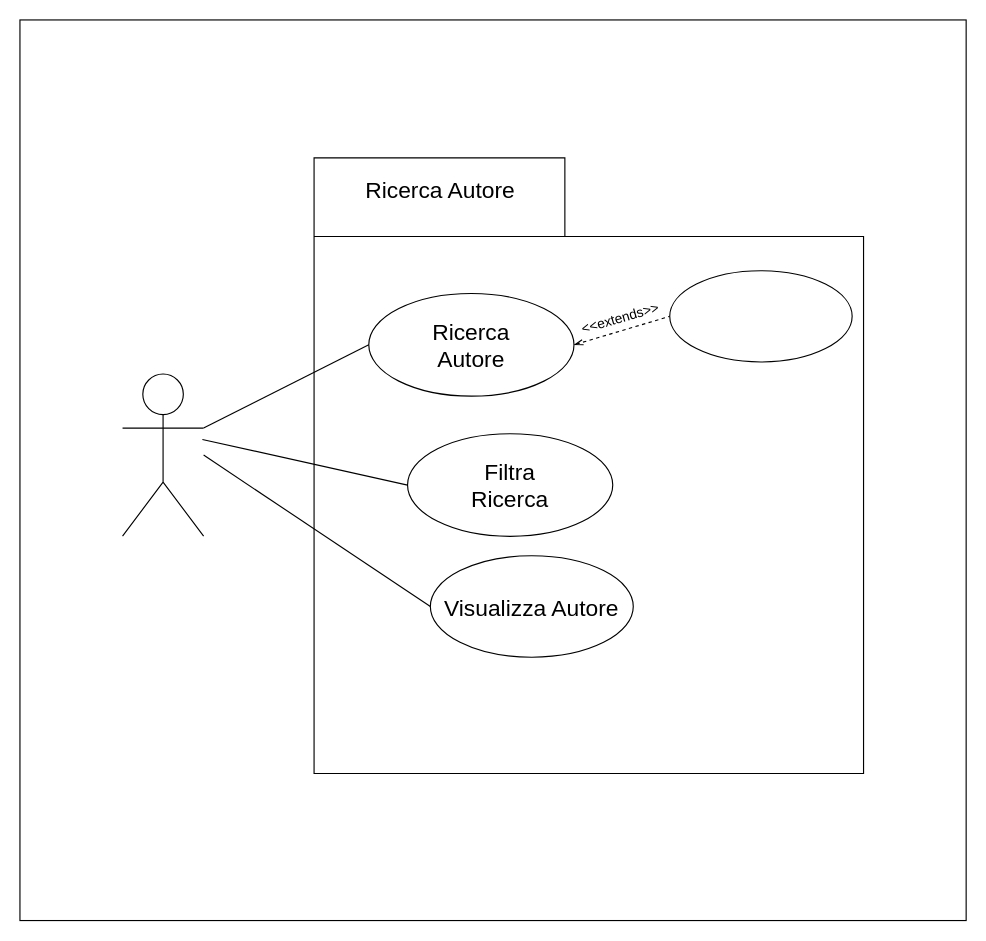
This 986x941 diagram has some shape labels left out. Each missing label, with the box of its shape:
Autore non presente: (669, 270, 852, 362)
Utente: (121, 373, 204, 536)
